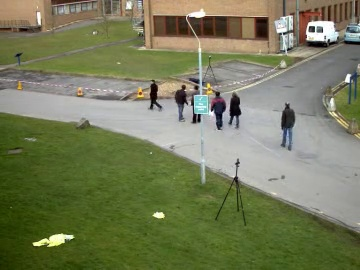person: (174, 83, 193, 121), (147, 79, 163, 112), (148, 78, 163, 112)
